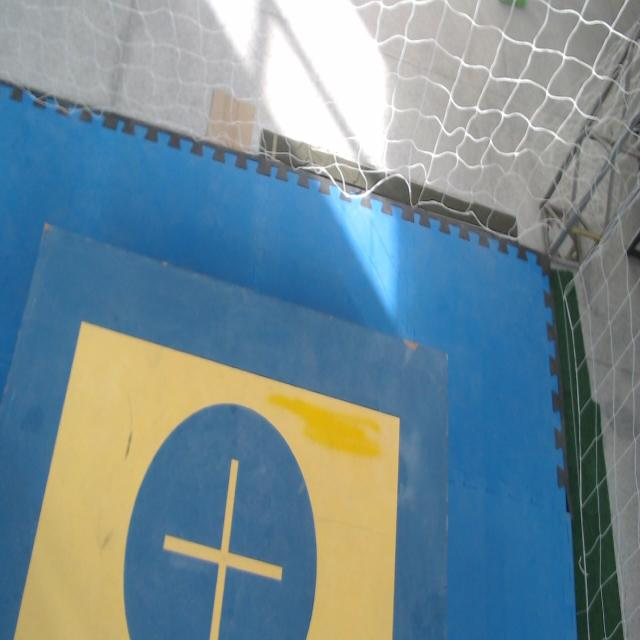base_inicio: (13, 318, 400, 639)
